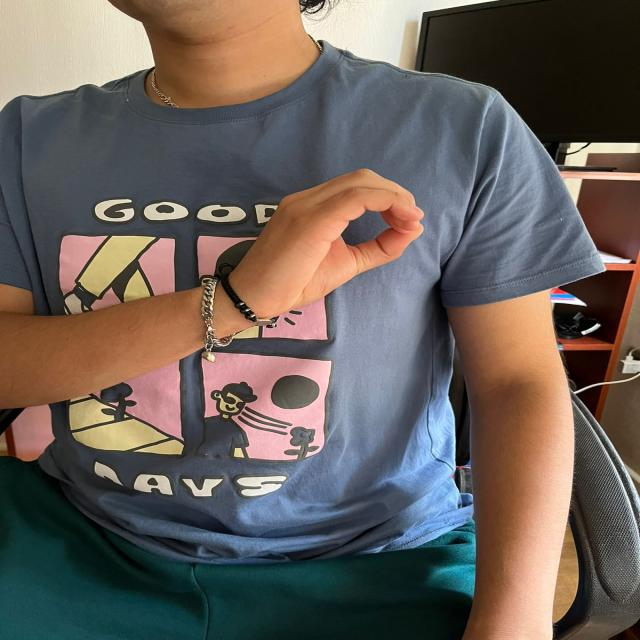O: (238, 157, 430, 303)
